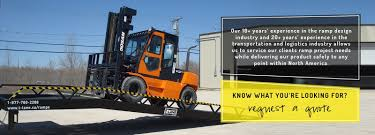Pallet Jack: (81, 6, 209, 110)
Yard Ramp: (1, 81, 266, 129)
